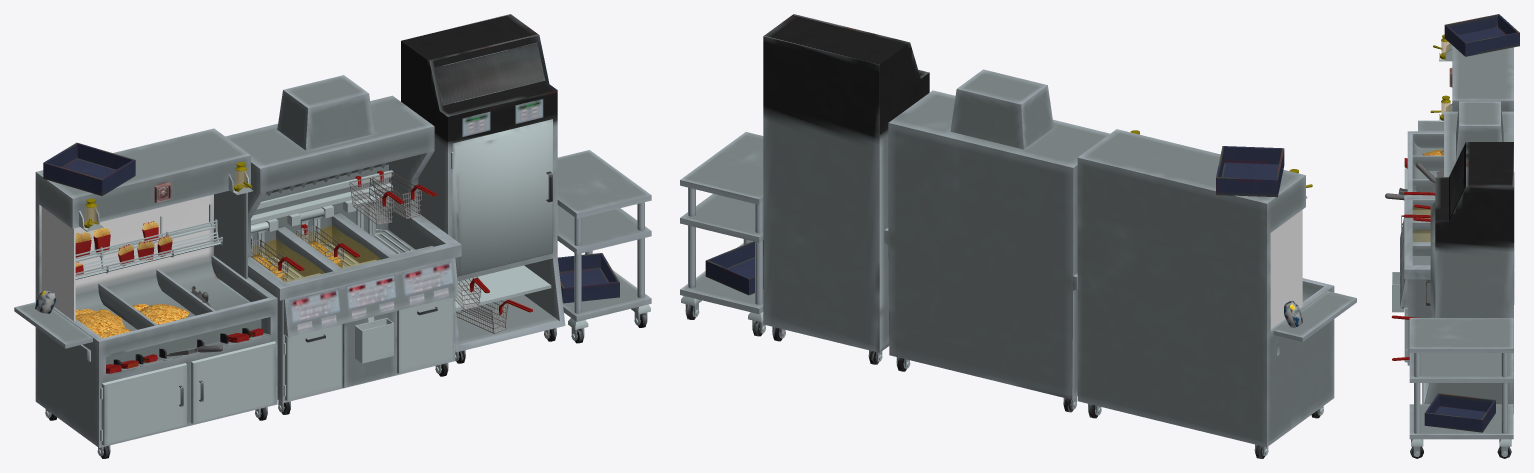
File: deep-fryer-d0e36e.glb
3 renders of one model, left to right at view 1: azimuth 30°, elevation 25°; view 2: azimuth 150°, elevation 25°; view 3: azimuth 270°, elevation 25°, orthographic. The views are drawn at different scales.
Visible parts, largest first — view 1: PropMesh; view 2: PropMesh; view 3: PropMesh.
Part boxes in pixels (x1,y1,x2,y2): PropMesh: [14, 14, 651, 458]; PropMesh: [680, 14, 1356, 458]; PropMesh: [1385, 14, 1519, 458].
Size of the model in its own units: 1.8 by 0.8548 by 0.4318.
Materials: 8 (7 with a texture image).
